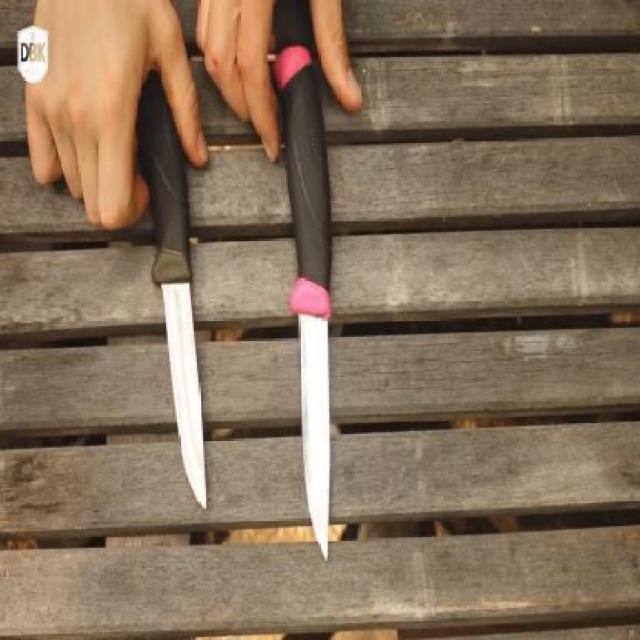-: (83, 121, 219, 517), (283, 211, 343, 571)
